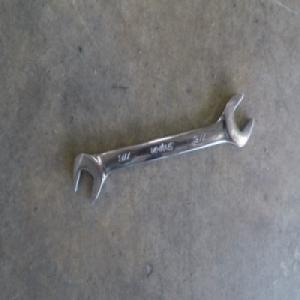Wrench: (71, 90, 254, 202)
